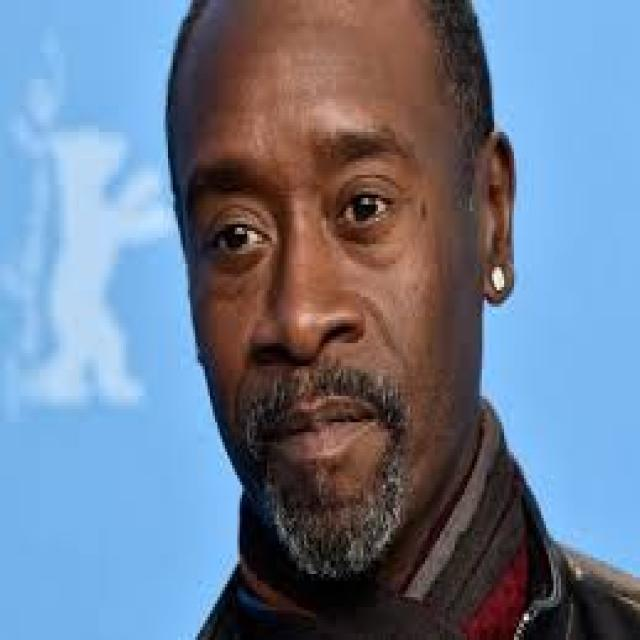low: (345, 221, 409, 242)
moderate: (216, 252, 270, 282)
